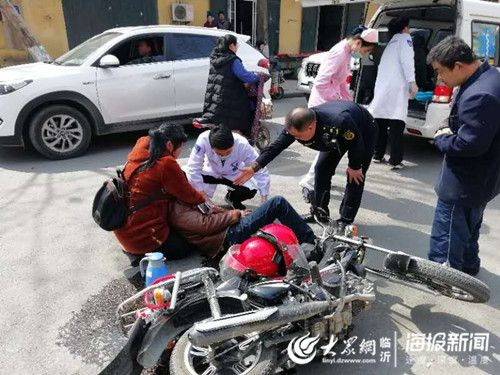fall: (134, 137, 318, 269)
